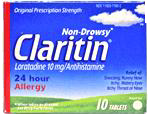grozi_39: (3, 0, 150, 113)
